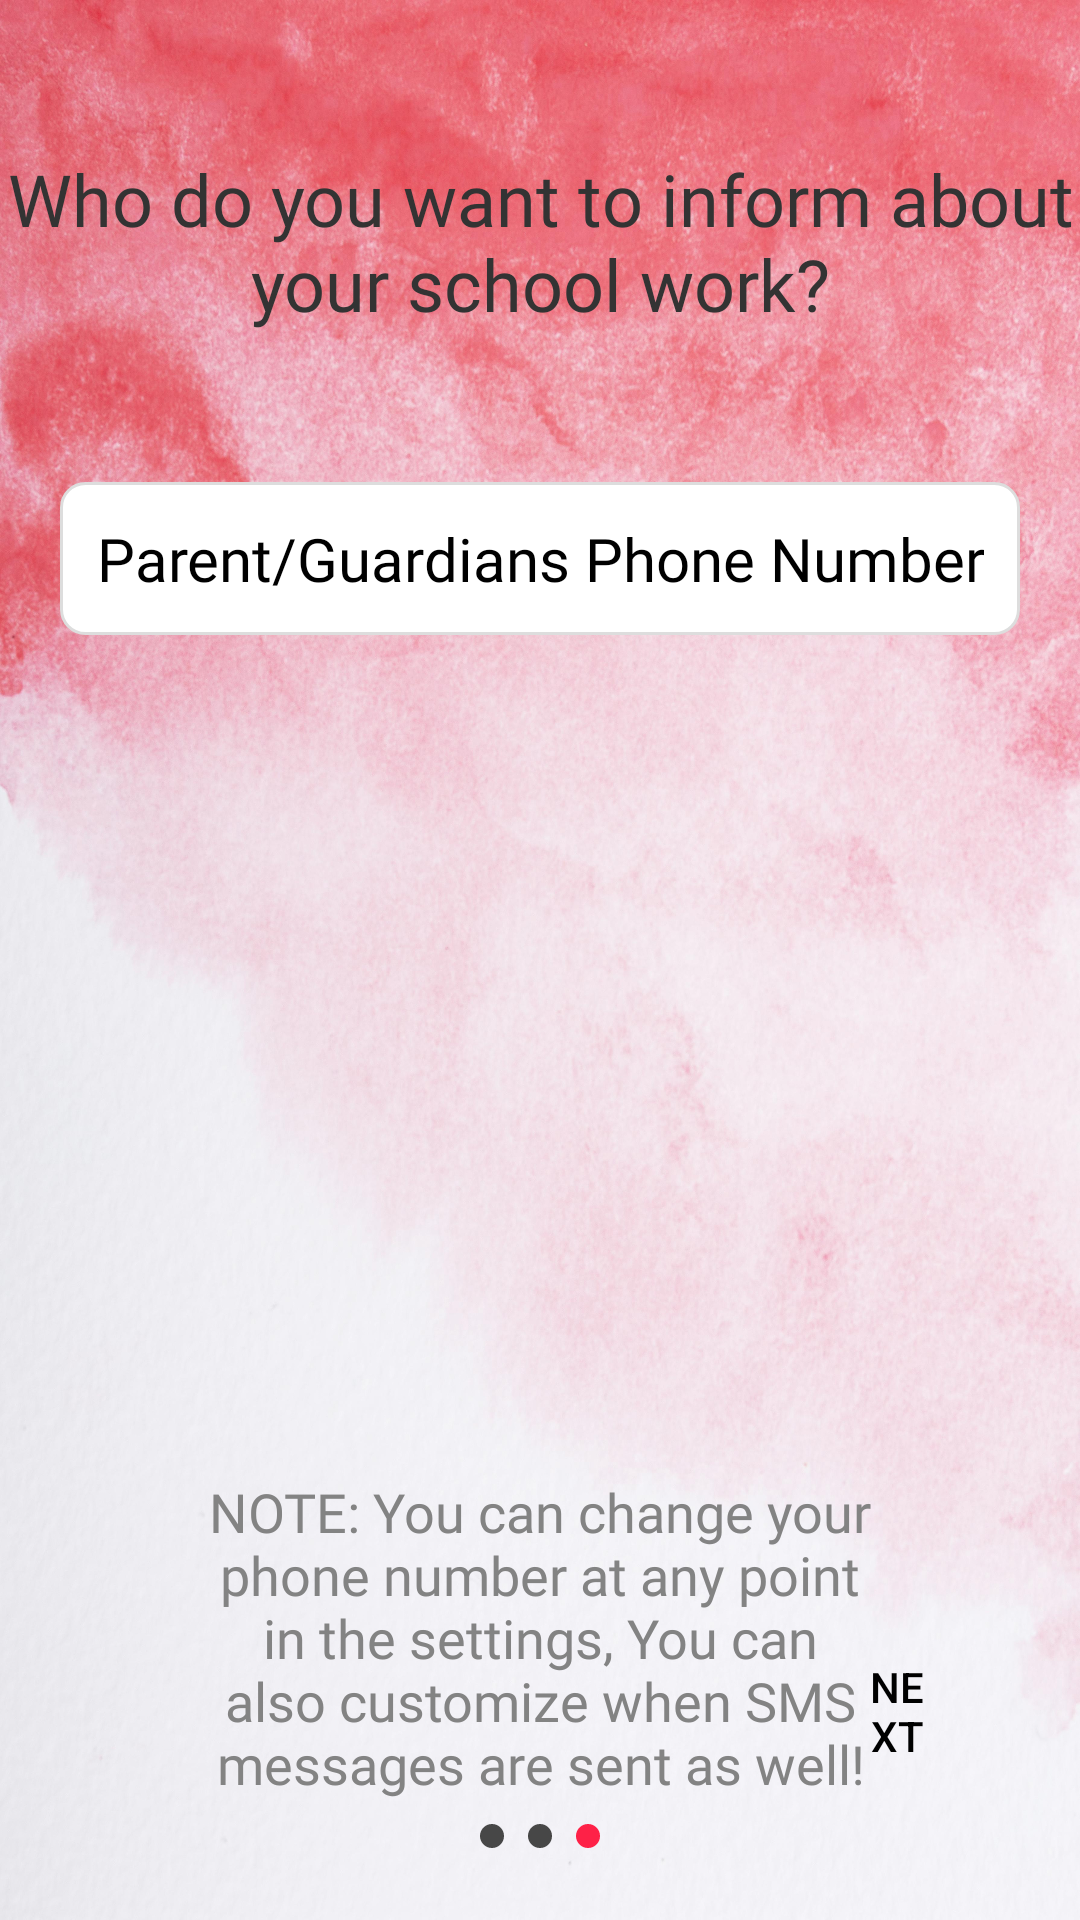

Icons on this 1080px×1920px Android screen, each with the point to tap as point (x, y):
dot: point (492, 1836), point (540, 1836), point (588, 1836)
